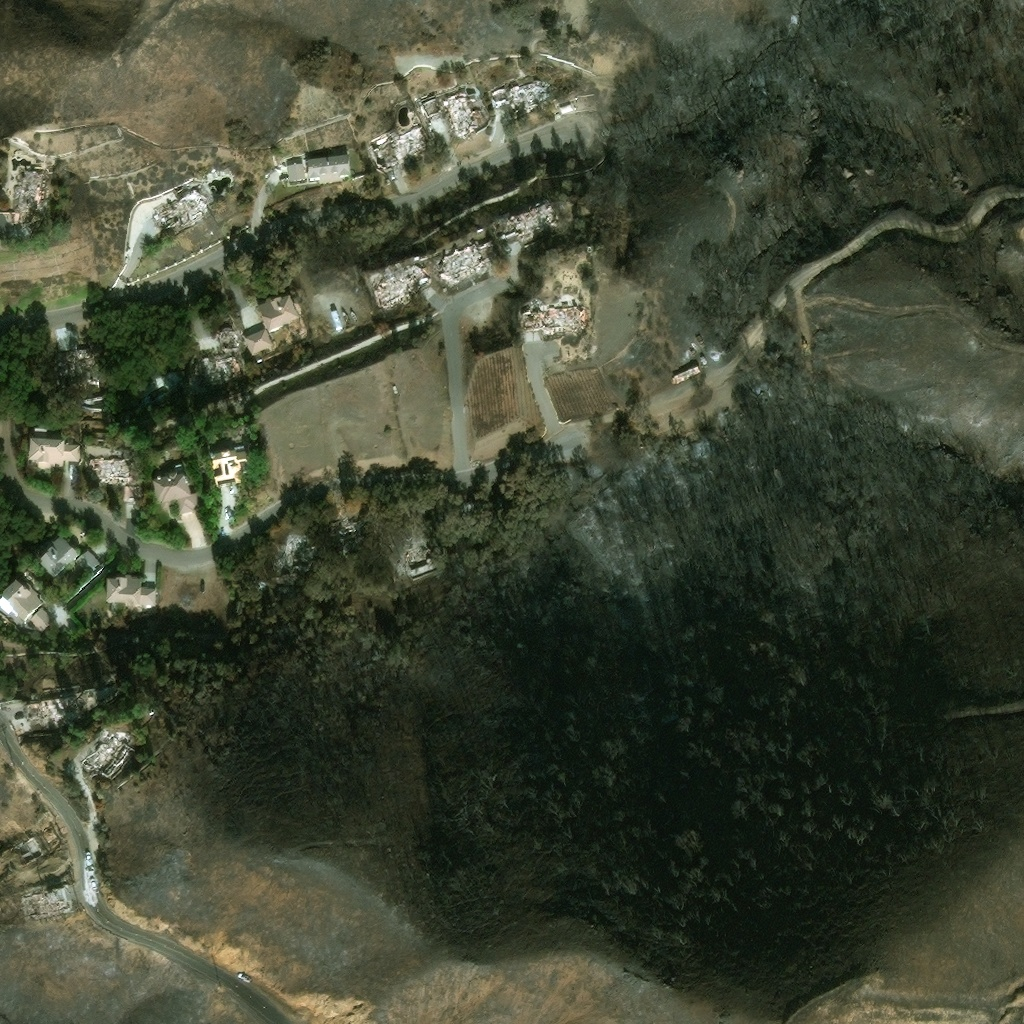0 no-damage: (0, 576, 42, 621), (106, 572, 157, 608), (254, 292, 299, 330), (37, 534, 77, 575), (208, 441, 247, 483), (26, 436, 78, 467), (306, 154, 350, 182), (151, 471, 190, 502), (242, 325, 275, 355), (30, 605, 52, 630), (78, 548, 101, 571), (286, 162, 303, 180), (122, 483, 140, 498)
2 major-damage: (86, 452, 131, 482)
3 destroyed: (363, 123, 431, 171), (487, 197, 558, 241), (153, 181, 215, 229), (368, 262, 432, 306), (434, 238, 495, 279), (84, 731, 134, 781), (443, 87, 488, 136), (488, 77, 548, 112), (9, 167, 44, 224), (522, 302, 586, 331), (189, 349, 241, 384), (26, 691, 84, 720), (20, 886, 67, 913), (326, 515, 365, 543), (53, 344, 93, 368), (13, 834, 44, 863), (404, 543, 432, 565), (284, 539, 306, 566), (418, 93, 441, 117), (219, 327, 238, 344)
